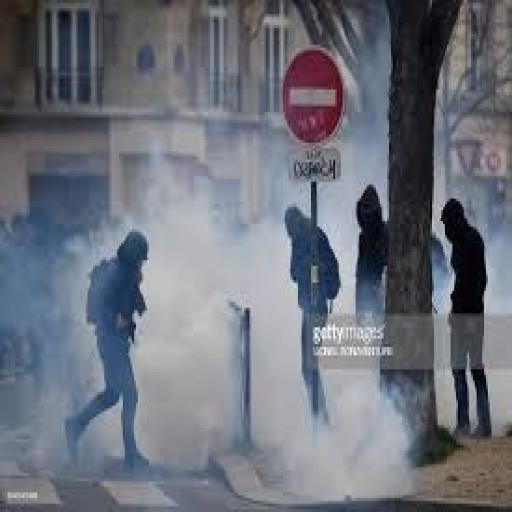running: (62, 224, 152, 476), (281, 198, 343, 434), (438, 193, 494, 442)
